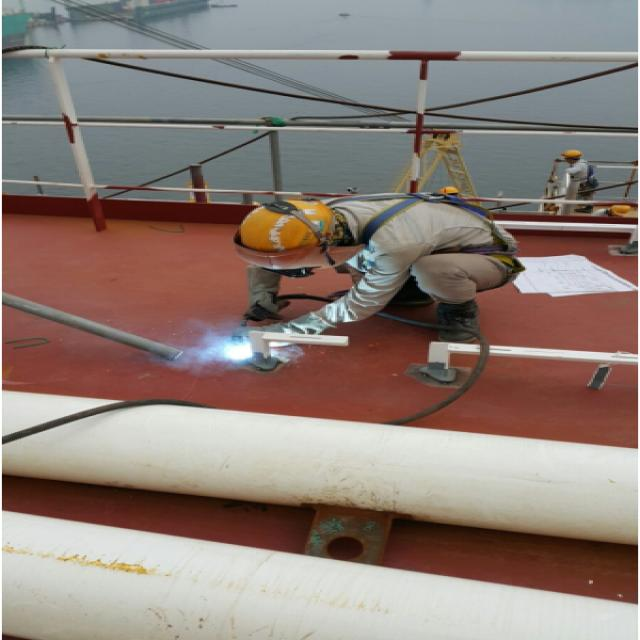welding: (221, 337, 260, 362)
